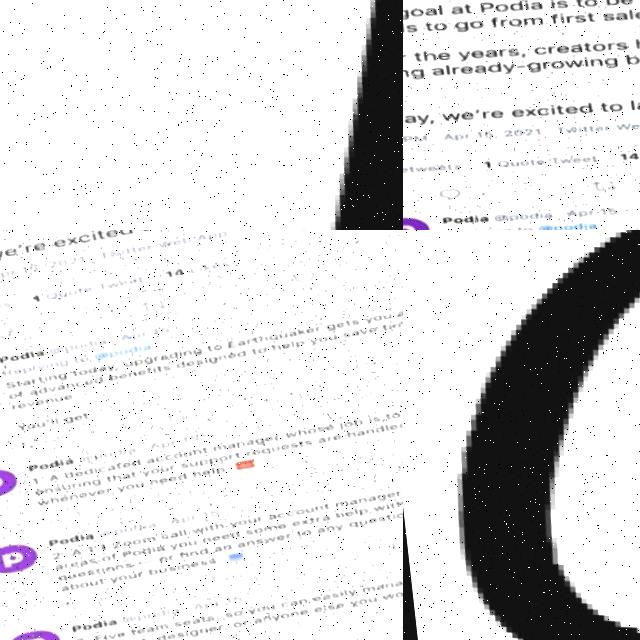0: (621, 152, 636, 161), (51, 258, 62, 267)
1: (23, 292, 35, 304), (476, 129, 490, 138), (599, 207, 611, 216), (70, 254, 80, 263), (158, 270, 168, 279), (20, 476, 30, 485), (73, 545, 83, 554), (86, 543, 95, 552), (144, 328, 152, 336), (188, 511, 196, 519), (210, 597, 218, 605), (15, 265, 22, 273), (171, 436, 178, 444), (62, 510, 70, 517), (44, 435, 51, 441), (84, 596, 90, 602)
2: (37, 550, 49, 561), (62, 256, 74, 265), (334, 382, 346, 391), (352, 457, 364, 466), (389, 607, 401, 616), (41, 260, 52, 269)
3: (374, 542, 384, 551), (59, 636, 70, 640)
4: (166, 267, 180, 278)
5: (21, 263, 35, 274), (151, 324, 163, 335), (178, 433, 190, 444), (197, 508, 209, 519), (217, 595, 229, 604)
J: (22, 0, 403, 230)
O: (448, 230, 640, 640)
